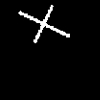single_crochet: (19, 5, 69, 42)
